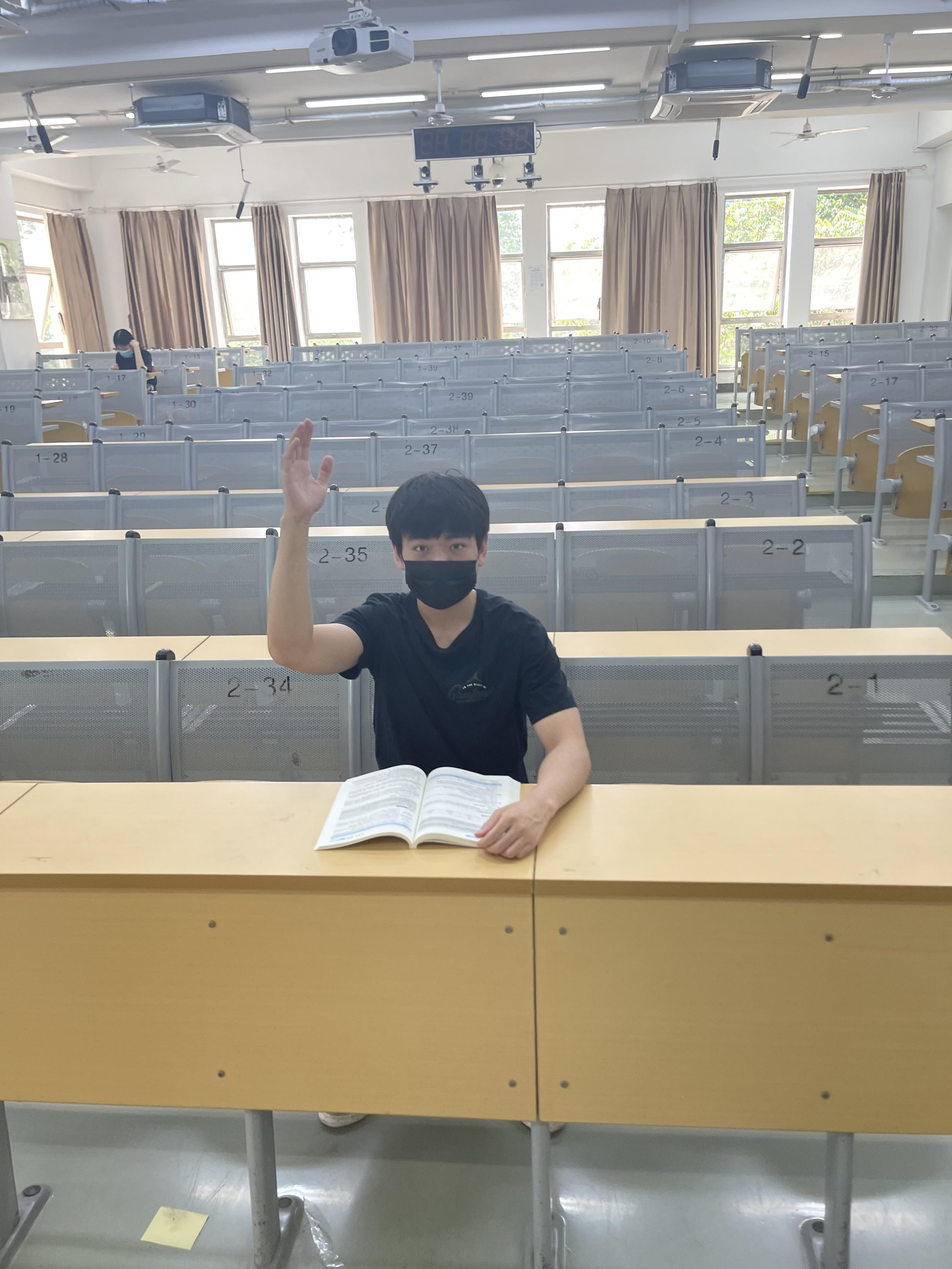study: (269, 421, 588, 859), (106, 321, 153, 371)
